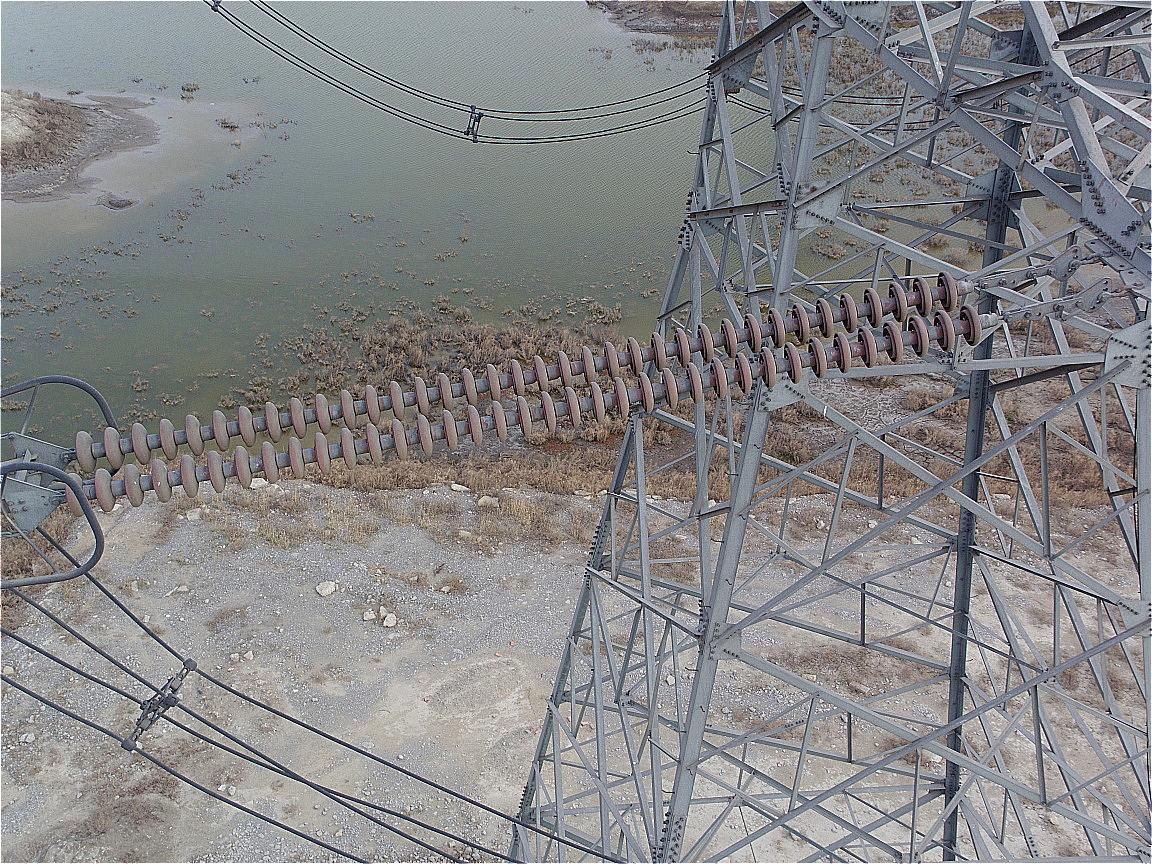insultor1: (62, 270, 989, 508)
